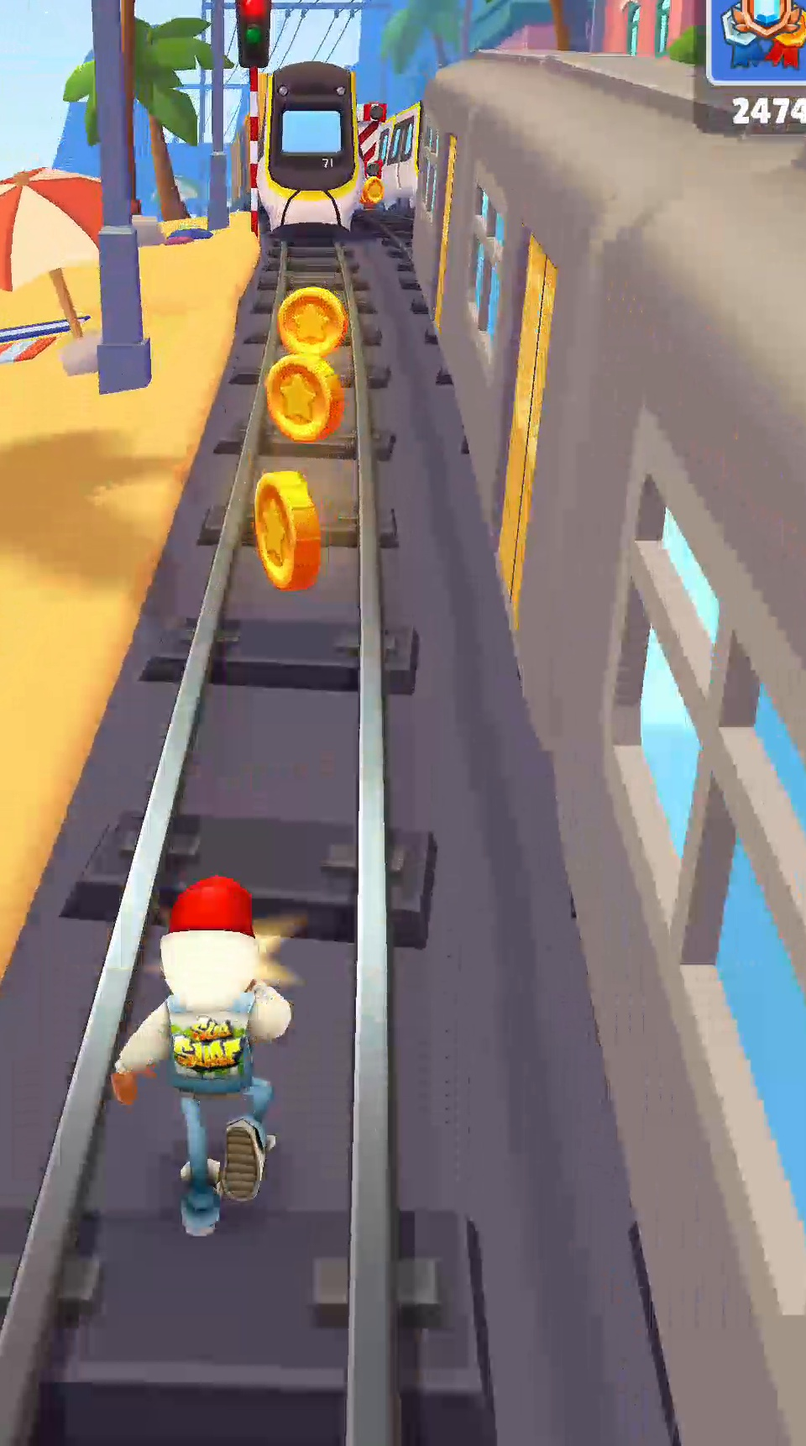jump-barrier: (357, 102, 386, 175)
train: (413, 50, 805, 1445), (257, 61, 364, 232), (386, 102, 420, 209)
